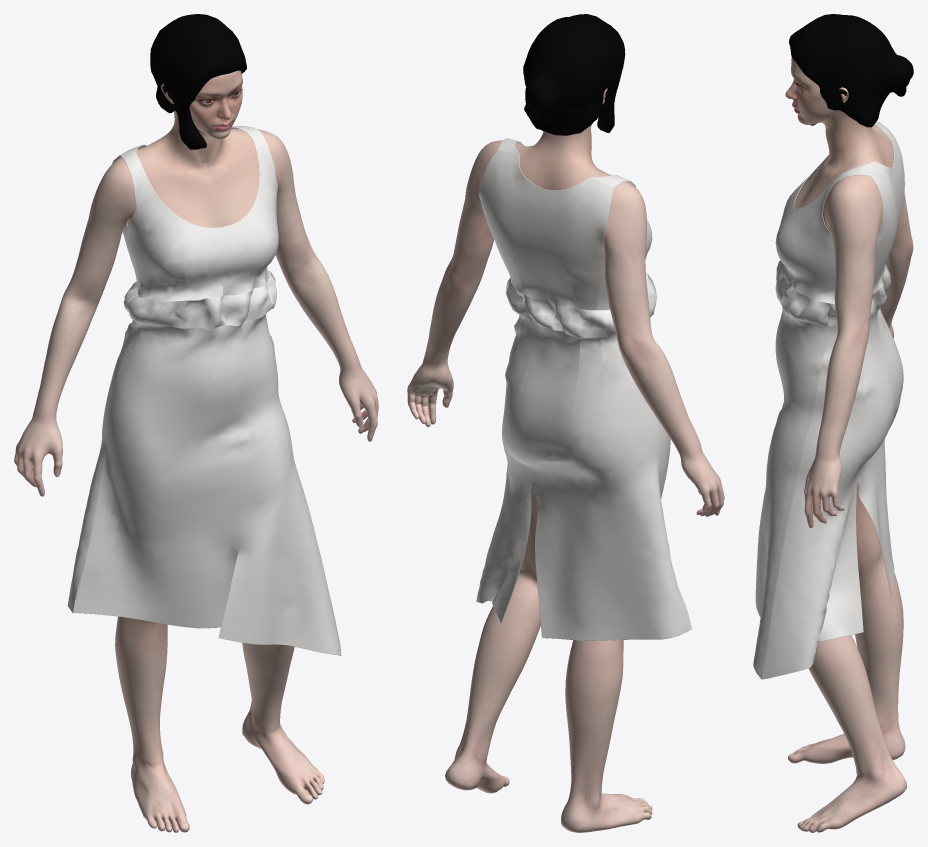
The model's file is Dynamic_2.obj.
The picture shows the model from 3 angles, left to right: view 1: azimuth 30°, elevation 25°; view 2: azimuth 150°, elevation 25°; view 3: azimuth 270°, elevation 25°; orthographic projection. The views are drawn at different scales.
Size of the model in its own units: 775 by 1773 by 336.
